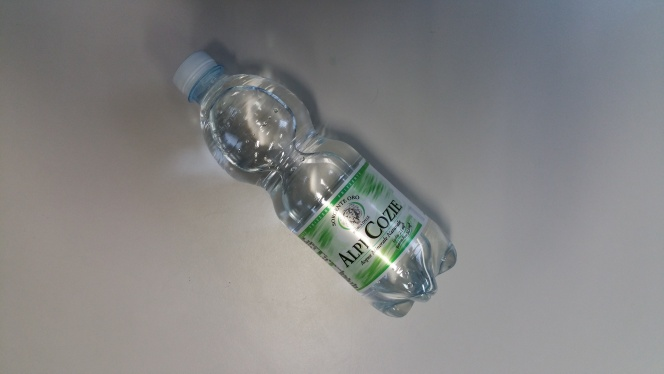bottle: (164, 50, 460, 321)
